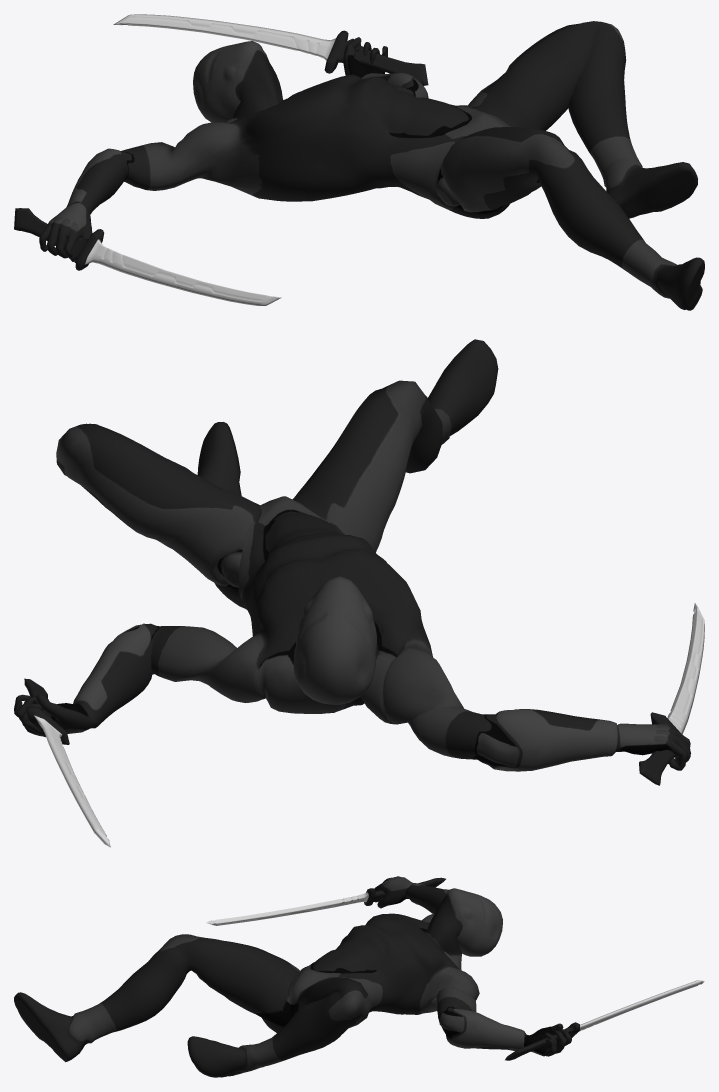
The picture shows the model from 3 angles, top to bottom: view 1: azimuth 30°, elevation 25°; view 2: azimuth 150°, elevation 25°; view 3: azimuth 270°, elevation 25°; orthographic projection. The views are drawn at different scales.
Parts seen in each view (by area): view 1: Cyborg_Ninja_Killer, Sword_l, Sword_l001; view 2: Cyborg_Ninja_Killer, Sword_l001, Sword_l; view 3: Cyborg_Ninja_Killer, Sword_l001, Sword_l.
Part boxes in pixels (x1,y1,x2,y2): Cyborg_Ninja_Killer: (39,21,704,310); Sword_l: (113,14,428,85); Sword_l001: (14,208,281,305); Cyborg_Ninja_Killer: (14,339,690,771); Sword_l001: (639,603,704,785); Sword_l: (24,678,110,847); Cyborg_Ninja_Killer: (14,876,571,1077); Sword_l001: (206,877,445,925); Sword_l: (505,980,704,1060).
Bounding box in the file's own units: 168 × 40.54 × 237.
Materials: 2 (2 with a texture image).
